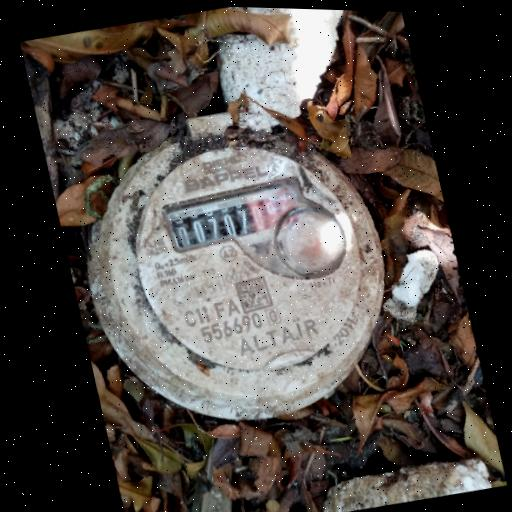0: (171, 216, 197, 251), (187, 213, 212, 248), (246, 199, 271, 234), (216, 206, 240, 241)
7: (231, 202, 255, 238), (203, 208, 227, 243)
9: (260, 194, 285, 230)
border_water_meter_number: (164, 175, 308, 255)
